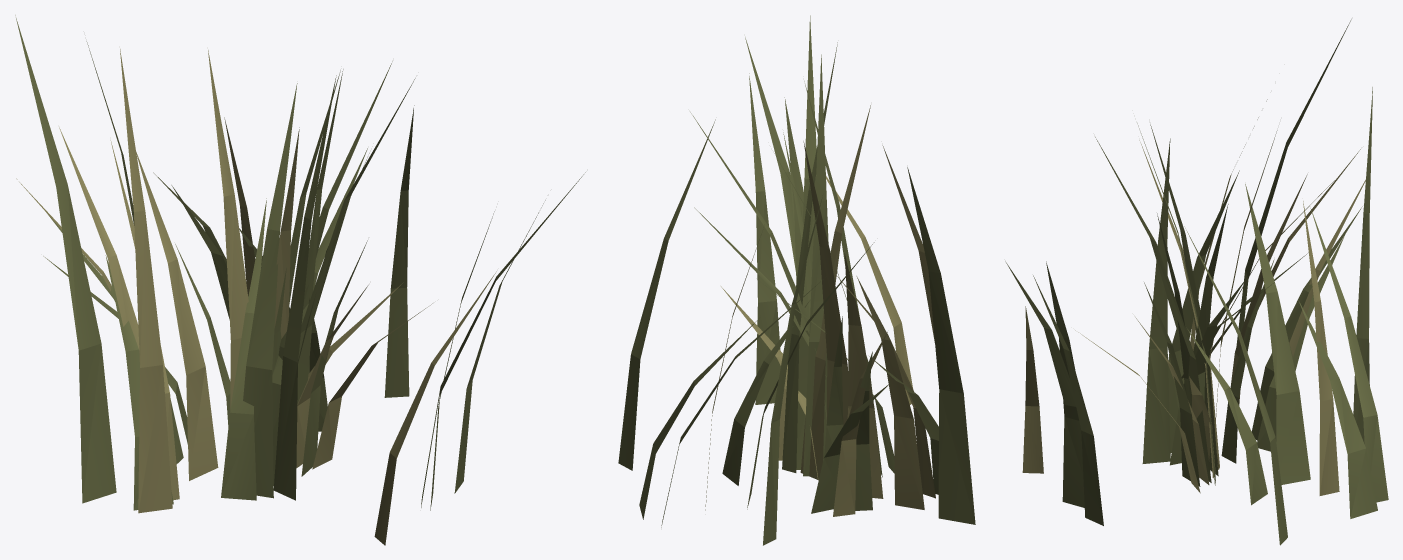
Rendered from dry-grass-tuft.glb.
3 renders of one model, left to right at view 1: azimuth 30°, elevation 25°; view 2: azimuth 150°, elevation 25°; view 3: azimuth 270°, elevation 25°, orthographic. The views are drawn at different scales.
Parts seen in each view (by area): view 1: dry-grass-tuft; view 2: dry-grass-tuft; view 3: dry-grass-tuft.
Boxes of the visible parts, <box> form: dry-grass-tuft: <box>15,15,585,545</box>; dry-grass-tuft: <box>618,15,975,545</box>; dry-grass-tuft: <box>1005,19,1388,545</box>.
Size of the model in its own units: 0.4296 by 0.4752 by 0.4334.
